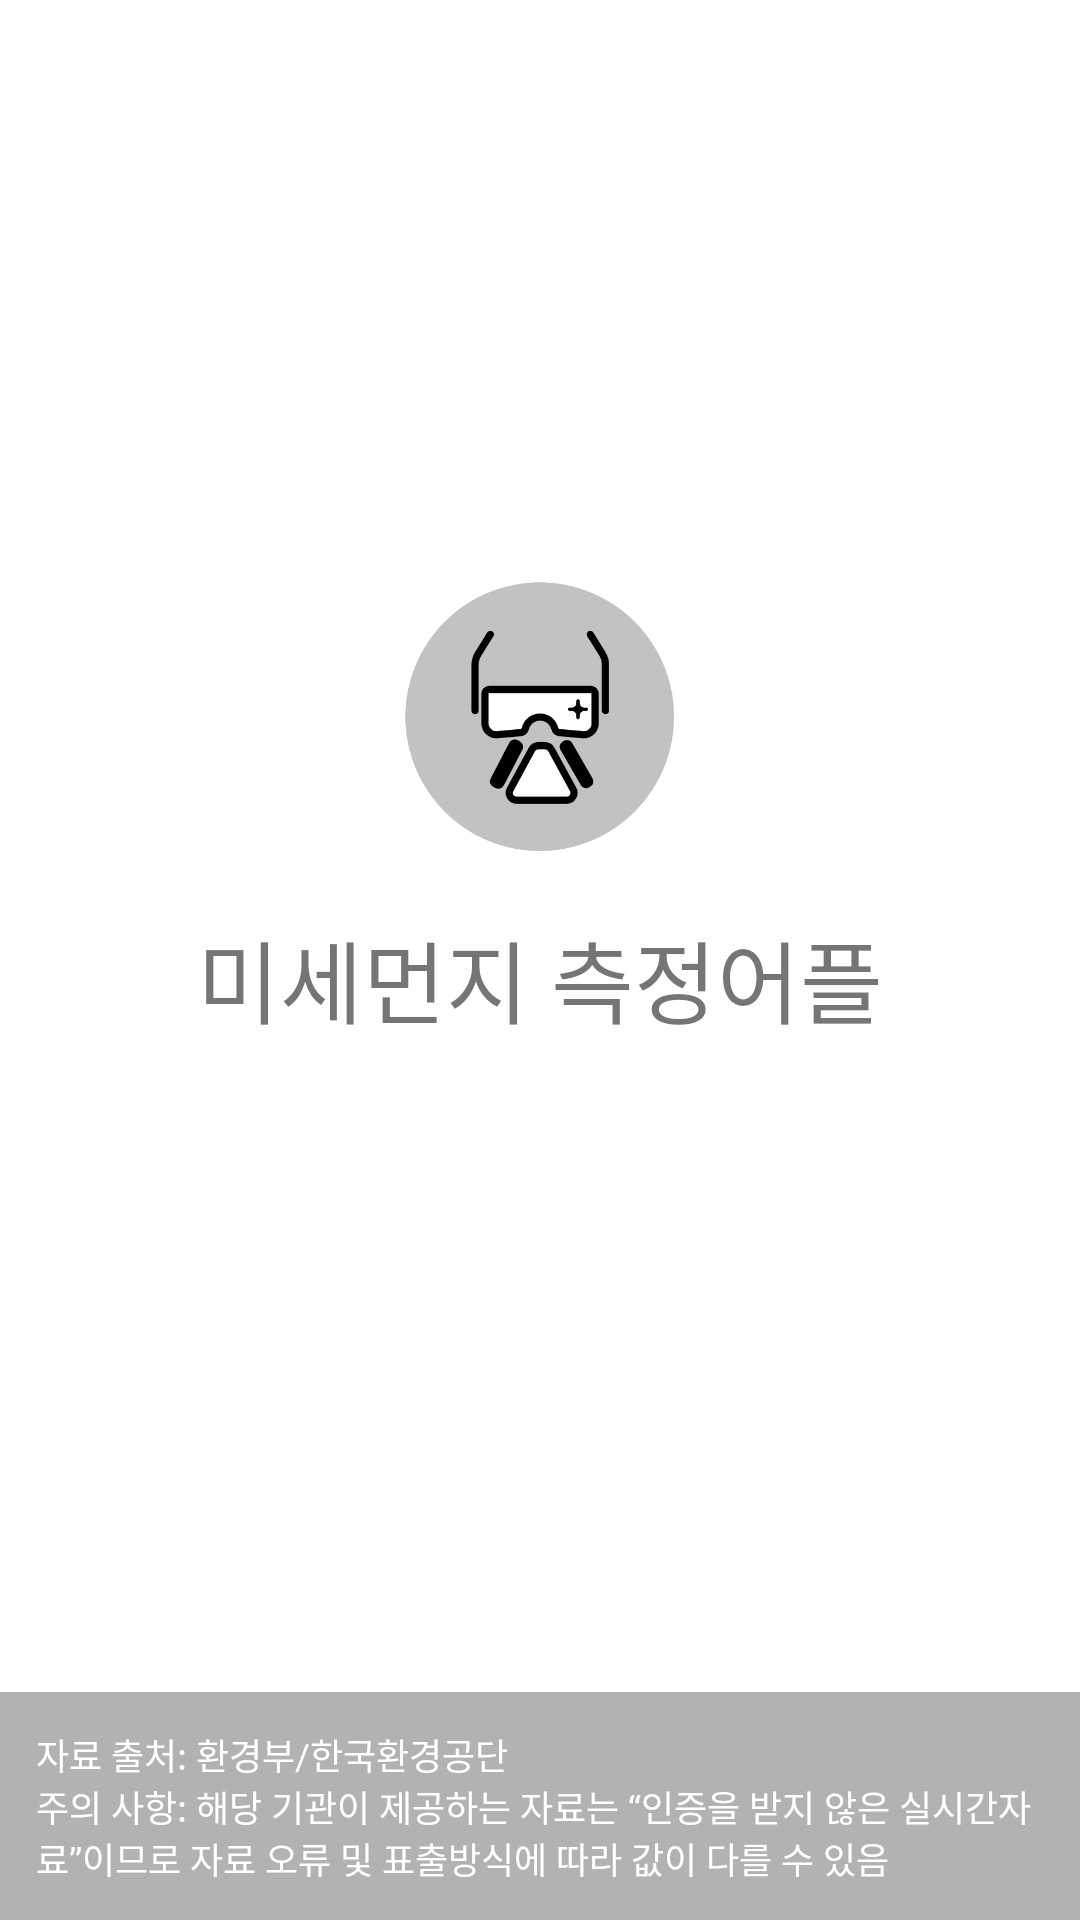

Icons on this 1080x1920 Android screen, each with its box as [x1=x1, y1=y1, x2=x2, y2=y2]:
fine dust app: [x1=405, y1=582, x2=674, y2=851]
